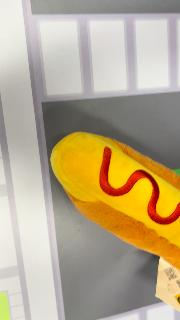hotdog: (50, 132, 180, 270)
